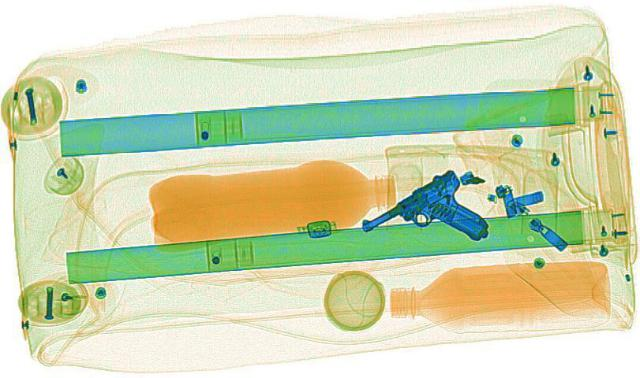Gun: (354, 163, 510, 241)
